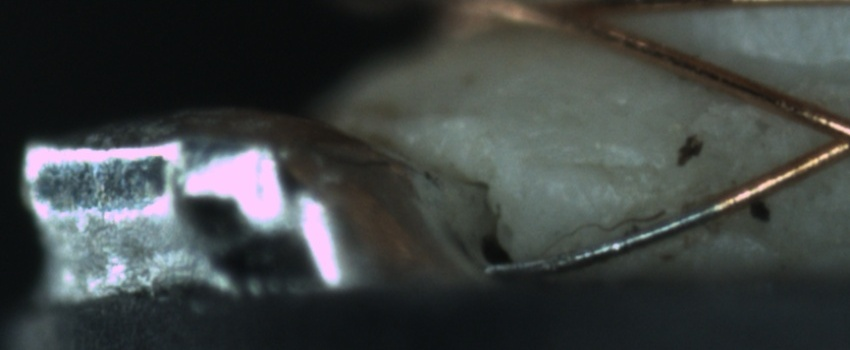CL: (796, 93, 849, 167)
DL: (531, 135, 658, 191)
TS: (486, 197, 718, 280)
